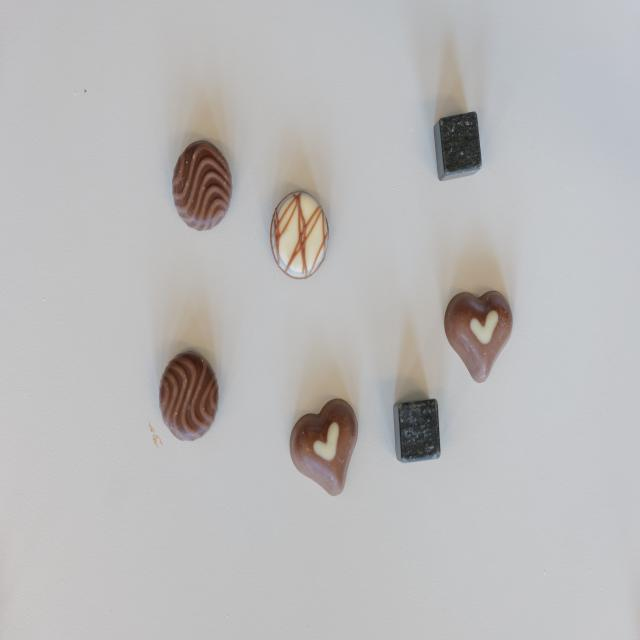Creme_brulee: (270, 189, 329, 278)
Noir_authentique: (172, 138, 233, 230), (160, 351, 218, 441)
Passion_au_lait: (290, 399, 358, 496), (443, 290, 512, 383)
